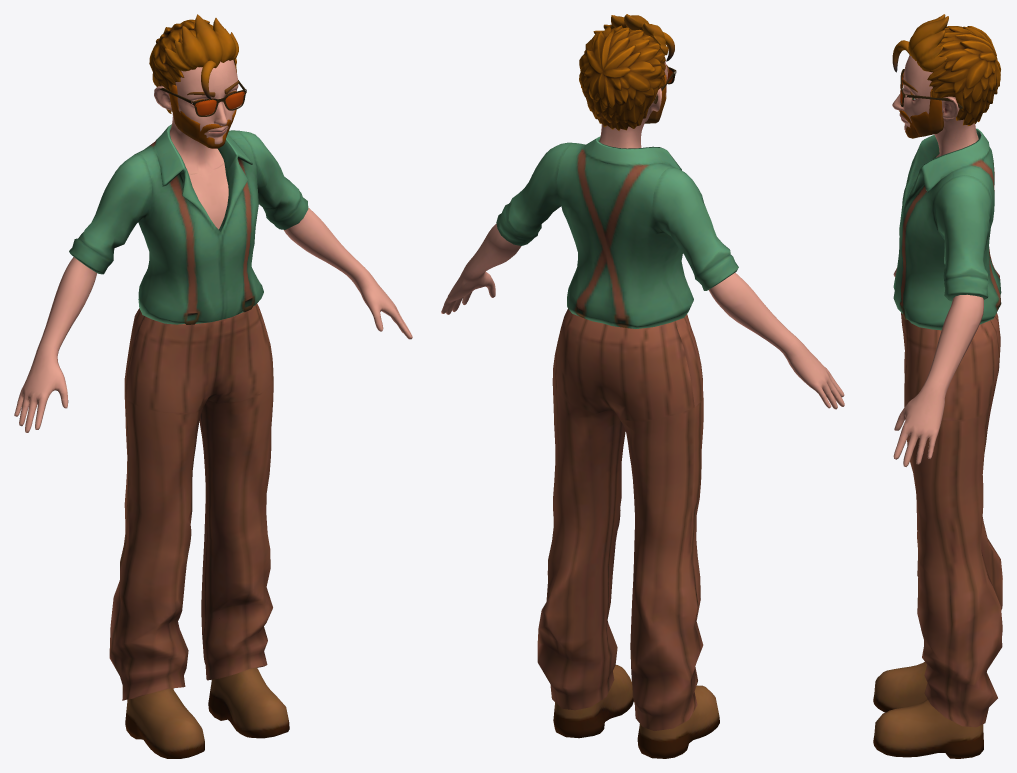
File: IrishMan_Mesh.obj
3 views of the same model, side by side, from view 1: azimuth 30°, elevation 25°; view 2: azimuth 150°, elevation 25°; view 3: azimuth 270°, elevation 25° (orthographic).
Parts seen in each view (by area): view 1: IrishMan_Mesh_0; view 2: IrishMan_Mesh_0; view 3: IrishMan_Mesh_0.
Part boxes in pixels (x1=…): IrishMan_Mesh_0: x1=14, y1=14, x2=412, y2=758; IrishMan_Mesh_0: x1=441, y1=14, x2=844, y2=758; IrishMan_Mesh_0: x1=873, y1=14, x2=1002, y2=758.
Size of the model in its own units: 1.06 by 1.86 by 0.3055.
Materials: 1 (1 with a texture image).
